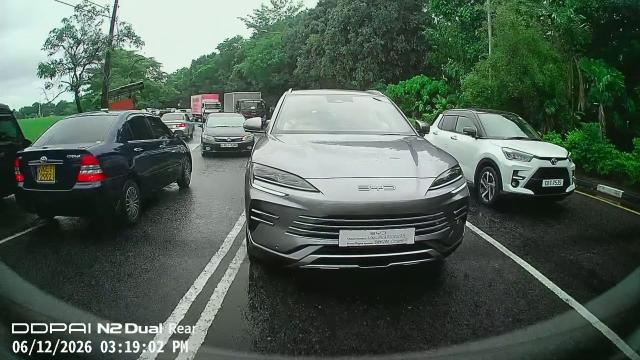illegal overtaking: (197, 104, 261, 161)
number plate: (214, 137, 243, 150)
